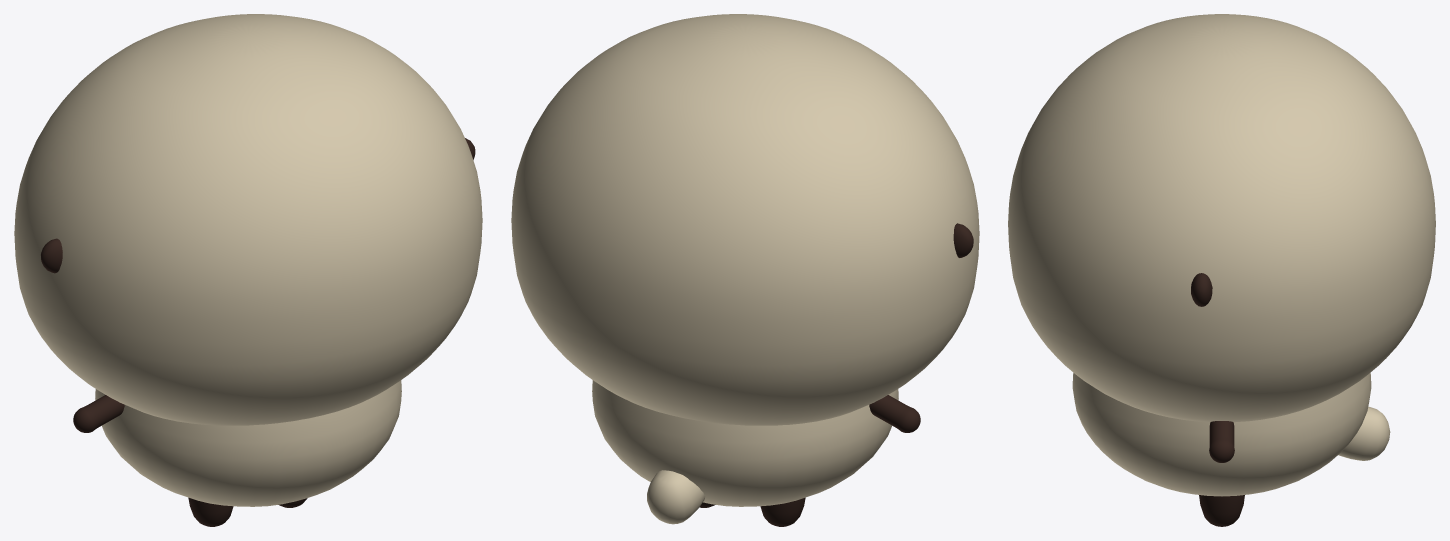
Rendered from rakko.glb.
3 views of the same model, side by side, from view 1: azimuth 30°, elevation 25°; view 2: azimuth 150°, elevation 25°; view 3: azimuth 270°, elevation 25° (orthographic). The views are drawn at different scales.
Visible parts, largest first — view 1: rakko; view 2: rakko; view 3: rakko.
Part boxes in pixels (x1,y1,x2,y2): rakko: [14, 14, 482, 526]; rakko: [511, 14, 979, 526]; rakko: [1008, 14, 1435, 526].
Bounding box in the file's own units: 0.907 × 0.9591 × 0.7982.
